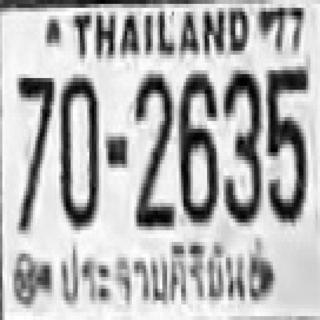N00: (59, 74, 97, 222)
N02: (134, 70, 172, 226)
N03: (222, 68, 260, 221)
N05: (266, 66, 306, 219)
N06: (176, 70, 216, 219)
N07: (15, 74, 53, 230)
P50: (57, 240, 271, 310)
